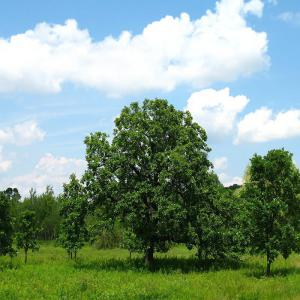Tree: (81, 97, 218, 267), (245, 147, 300, 276), (57, 172, 95, 264)
